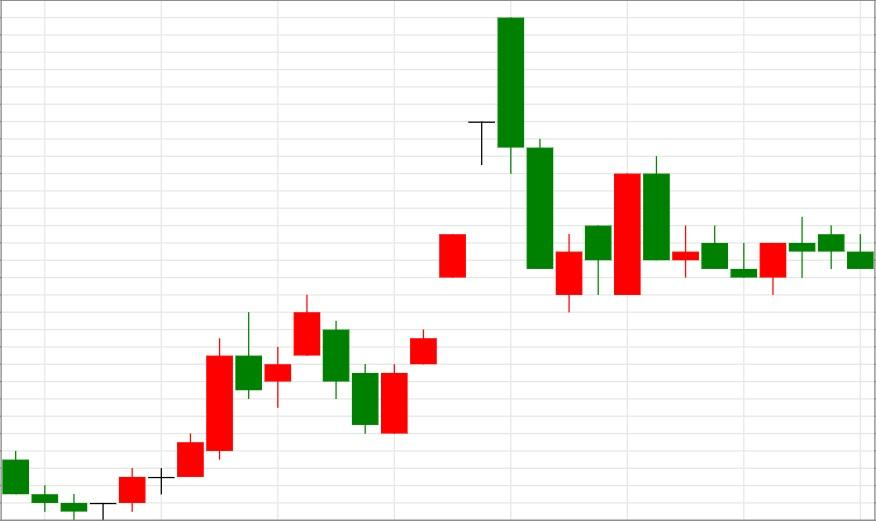three_white_soldiers_rise: (293, 232, 468, 435)
